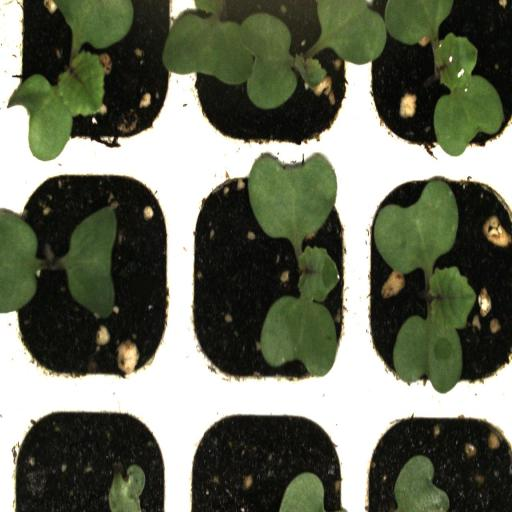Folha: (56, 207, 117, 319), (0, 211, 44, 313), (394, 455, 450, 512)
Germinacao: (181, 159, 356, 399), (4, 169, 178, 397), (357, 160, 512, 398), (0, 0, 179, 168), (178, 1, 358, 165), (358, 0, 512, 161)
